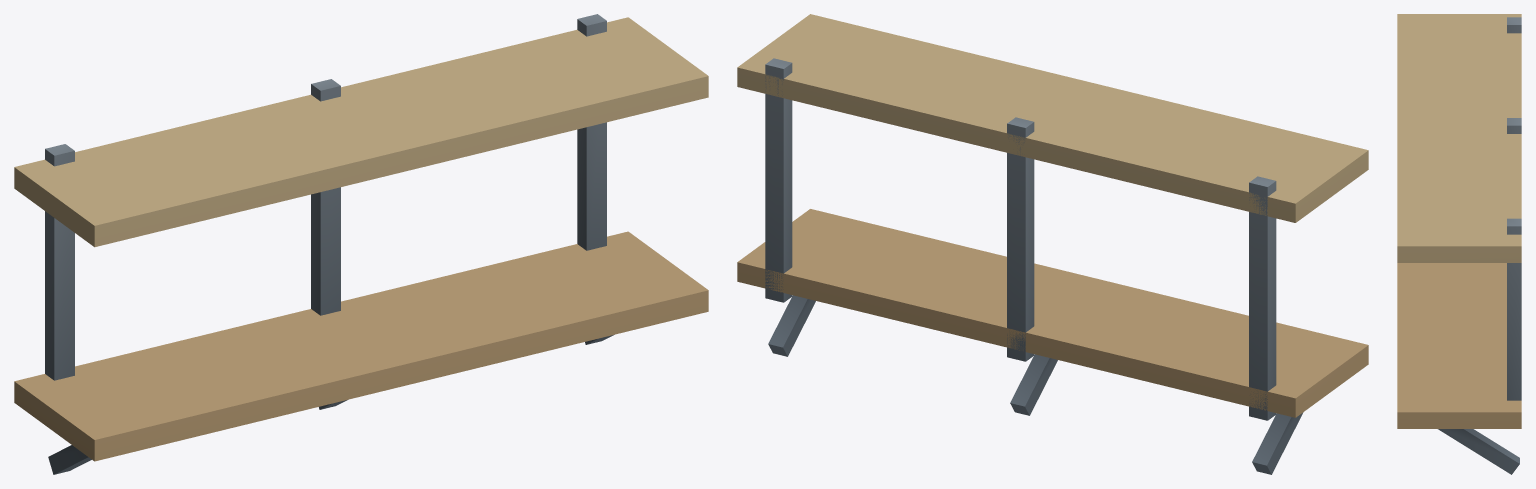
File: ruins-shelf-low.glb
The picture shows the model from 3 angles, left to right: view 1: azimuth 30°, elevation 25°; view 2: azimuth 150°, elevation 25°; view 3: azimuth 270°, elevation 25°; orthographic projection. The views are drawn at different scales.
Parts seen in each view (by area): view 1: 0_ruins_shelf; view 2: 0_ruins_shelf; view 3: 0_ruins_shelf.
Boxes of the visible parts, bbox=[...] form: 0_ruins_shelf: bbox=[14, 14, 708, 474]; 0_ruins_shelf: bbox=[737, 14, 1368, 474]; 0_ruins_shelf: bbox=[1397, 14, 1521, 474].
Bounding box in the file's own units: 1.5 × 0.7512 × 0.34.
